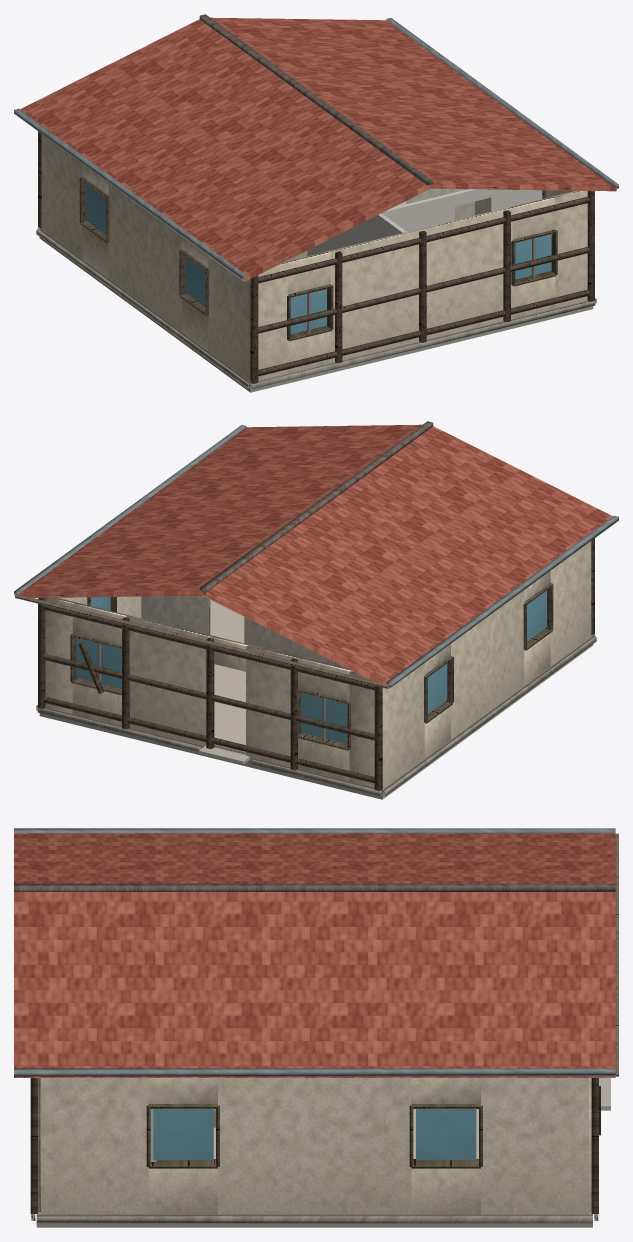
The model's file is HAB_213_Z2_R14_ALBEDO_OTIM_CANDIDATO.gltf.
3 renders of one model, top to bottom at view 1: azimuth 30°, elevation 25°; view 2: azimuth 150°, elevation 25°; view 3: azimuth 270°, elevation 25°, orthographic. The views are drawn at different scales.
Visible parts, largest first — view 1: HAB_213_COBERTURA_AGUA_O, HAB_213_COBERTURA_AGUA_L, HAB_213_FACHADA_FUNDOS_PAREDE_1, HAB_213_LATERAL_O_PAREDE_1, HAB_213_LATERAL_O_PAREDE_FINAL, HAB_213_LATERAL_O_PAREDE_0, HAB_213_REV26_ARREMATE_EMBASAMENTO, HAB_213_FACHADA_FUNDOS_PAREDE_FINAL, HAB_213_FUNDACAO, HAB_213_FACHADA_FUNDOS_PAREDE_0, HAB_213_COBERTURA_CUMEEIRA, HAB_213_ENXAIMEL_TRAVESSA_T_1.59 (+23 smaller); view 2: HAB_213_COBERTURA_AGUA_O, HAB_213_COBERTURA_AGUA_L, HAB_213_FACHADA_FRONTAL_PAREDE_2, HAB_213_LATERAL_O_PAREDE_1, HAB_213_FACHADA_FRONTAL_PAREDE_1, HAB_213_LATERAL_O_PAREDE_0, HAB_213_LATERAL_O_PAREDE_FINAL, HAB_213_REV26_ARREMATE_EMBASAMENTO, HAB_213_PISO_INTERNO, HAB_213_FUNDACAO, HAB_213_FACHADA_FRONTAL_PAREDE_FINAL, HAB_213_COBERTURA_CUMEEIRA (+25 smaller); view 3: HAB_213_COBERTURA_AGUA_L, HAB_213_COBERTURA_AGUA_O, HAB_213_LATERAL_L_PAREDE_1, HAB_213_LATERAL_L_PAREDE_0, HAB_213_LATERAL_L_PAREDE_FINAL, HAB_213_COBERTURA_CUMEEIRA, HAB_213_COBERTURA_CALHA_L, HAB_213_REV26_ARREMATE_EMBASAMENTO, HAB_213_FUNDACAO, HAB_213_COBERTURA_CALHA_O, HAB_213_LATERAL_L_PEITORIL_0, HAB_213_LATERAL_L_PEITORIL_1 (+9 smaller).
Part boxes in pixels (x1,y1,x2,y2): HAB_213_COBERTURA_AGUA_O: (20,19,430,281); HAB_213_COBERTURA_AGUA_L: (210,17,616,191); HAB_213_FACHADA_FUNDOS_PAREDE_1: (328,207,512,362); HAB_213_LATERAL_O_PAREDE_1: (108,183,181,331); HAB_213_LATERAL_O_PAREDE_FINAL: (208,256,250,381); HAB_213_LATERAL_O_PAREDE_0: (41,134,82,258); HAB_213_REV26_ARREMATE_EMBASAMENTO: (36,227,596,388); HAB_213_FACHADA_FUNDOS_PAREDE_FINAL: (552,190,587,307); HAB_213_FUNDACAO: (39,228,593,392); HAB_213_FACHADA_FUNDOS_PAREDE_0: (258,262,288,380); HAB_213_COBERTURA_CUMEEIRA: (199,14,433,185); HAB_213_ENXAIMEL_TRAVESSA_T_1.59: (258,247,589,333); HAB_213_COBERTURA_AGUA_O: (202,426,612,688); HAB_213_COBERTURA_AGUA_L: (16,424,422,597); HAB_213_FACHADA_FRONTAL_PAREDE_2: (125,615,212,745); HAB_213_LATERAL_O_PAREDE_1: (451,590,524,738); HAB_213_FACHADA_FRONTAL_PAREDE_1: (246,644,299,766); HAB_213_LATERAL_O_PAREDE_0: (382,663,424,788); HAB_213_LATERAL_O_PAREDE_FINAL: (550,541,591,665); HAB_213_REV26_ARREMATE_EMBASAMENTO: (36,634,596,795); HAB_213_PISO_INTERNO: (210,599,245,754); HAB_213_FUNDACAO: (39,635,593,799); HAB_213_FACHADA_FRONTAL_PAREDE_FINAL: (45,597,75,713); HAB_213_COBERTURA_CUMEEIRA: (199,421,433,593); HAB_213_COBERTURA_AGUA_L: (14,892,615,1077); HAB_213_COBERTURA_AGUA_O: (14,833,615,883); HAB_213_LATERAL_L_PAREDE_1: (218,1078,411,1214); HAB_213_LATERAL_L_PAREDE_0: (481,1078,588,1214); HAB_213_LATERAL_L_PAREDE_FINAL: (41,1078,148,1214); HAB_213_COBERTURA_CUMEEIRA: (14,883,615,891); HAB_213_COBERTURA_CALHA_L: (14,1068,615,1076); HAB_213_REV26_ARREMATE_EMBASAMENTO: (31,1214,598,1223); HAB_213_FUNDACAO: (36,1212,592,1227); HAB_213_COBERTURA_CALHA_O: (14,828,615,833); HAB_213_LATERAL_L_PEITORIL_0: (411,1168,480,1214); HAB_213_LATERAL_L_PEITORIL_1: (148,1168,217,1214).
Bounding box in the file's own units: 10.19 × 4.53 × 10.72.
12 materials, 12 textured.
